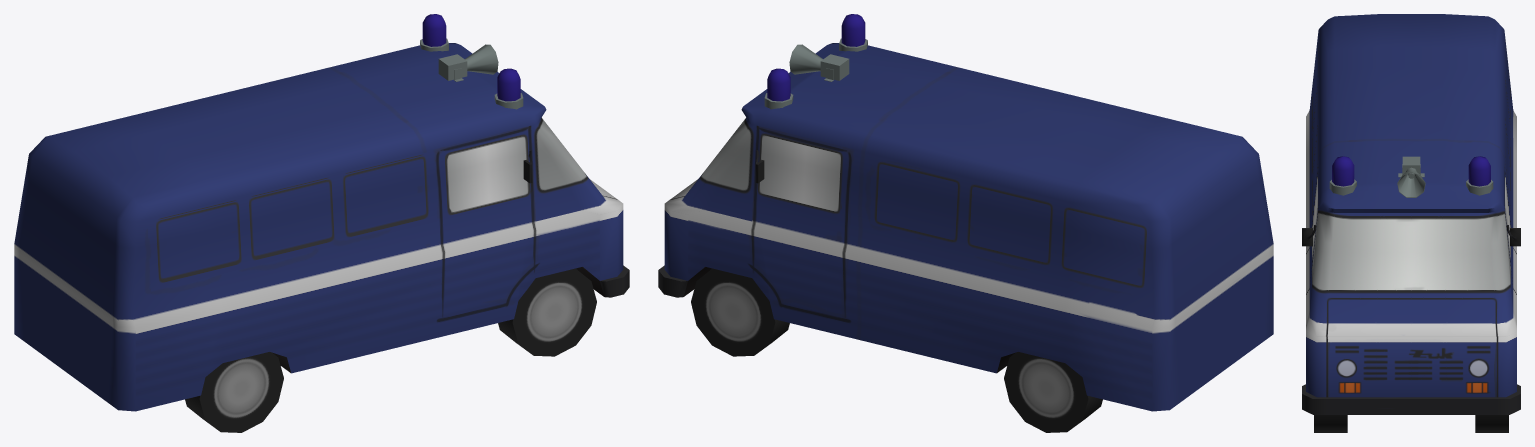
Rendered from zuk01-police-final.fbx.
3 views of the same model, side by side, from view 1: azimuth 30°, elevation 25°; view 2: azimuth 150°, elevation 25°; view 3: azimuth 270°, elevation 25° (orthographic). The views are drawn at different scales.
Visible parts, largest first — view 1: zuk-police; view 2: zuk-police; view 3: zuk-police.
Boxes of the visible parts, x1,y1,x2,y2 form: zuk-police: (14,14,629,432); zuk-police: (658,14,1273,432); zuk-police: (1302,14,1520,432).
Size of the model in its own units: 434 by 230 by 176.
